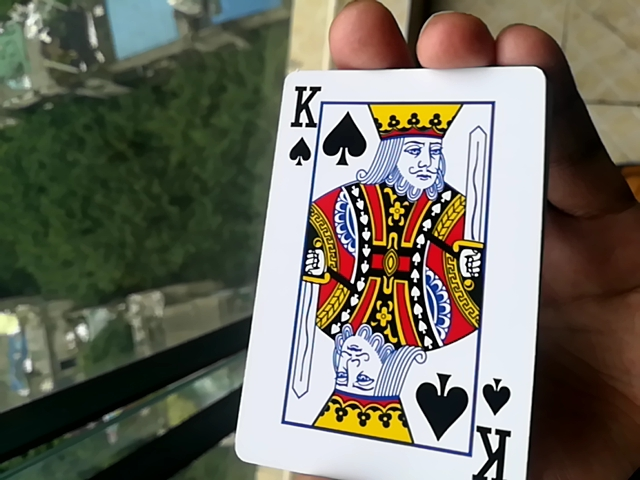ht k: (239, 67, 532, 479)
